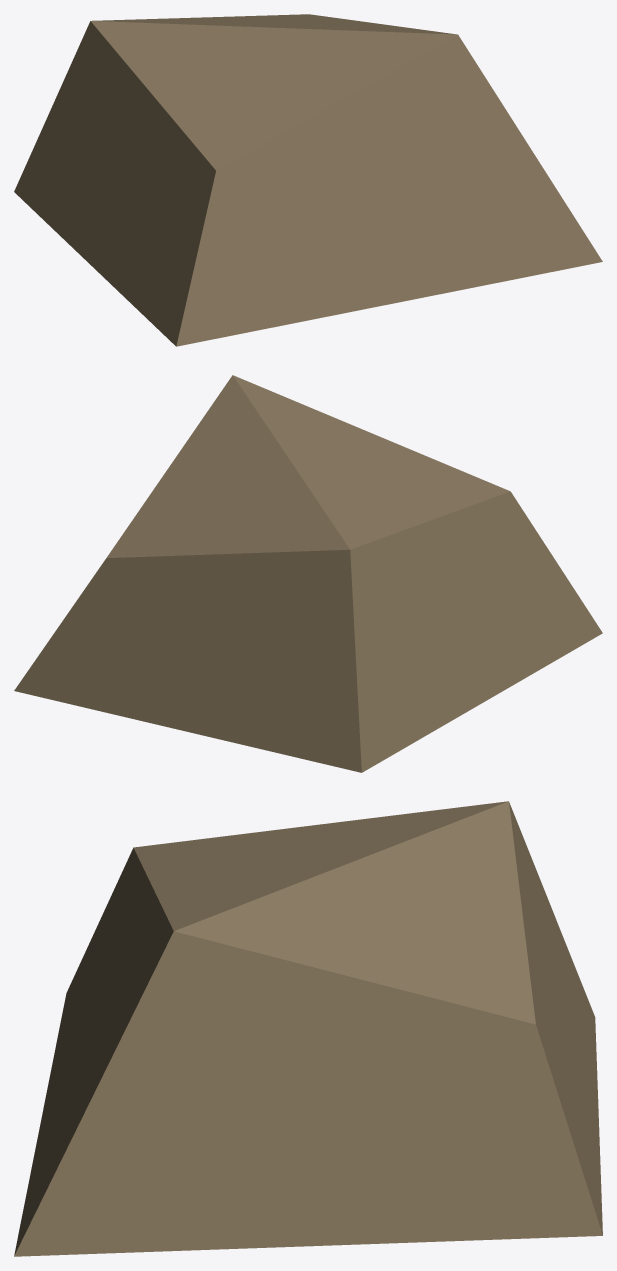
File: TB_D_Env_StoneC_C.FBX
3 views of the same model, one above another, from view 1: azimuth 30°, elevation 25°; view 2: azimuth 150°, elevation 25°; view 3: azimuth 270°, elevation 25° (orthographic). The views are drawn at different scales.
Parts seen in each view (by area): view 1: TB_D_Env_StoneC_C; view 2: TB_D_Env_StoneC_C; view 3: TB_D_Env_StoneC_C.
Boxes of the visible parts, x1,y1,x2,y2 form: TB_D_Env_StoneC_C: (14,14,602,346); TB_D_Env_StoneC_C: (14,375,602,772); TB_D_Env_StoneC_C: (14,801,602,1256).
Size of the model in its own units: 0.2881 by 0.138 by 0.2721.
